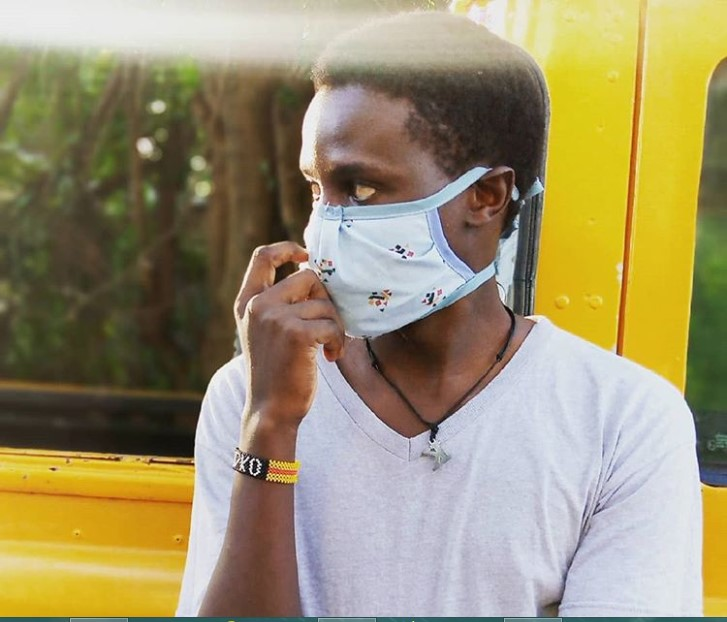face_with_mask: (293, 16, 541, 350)
